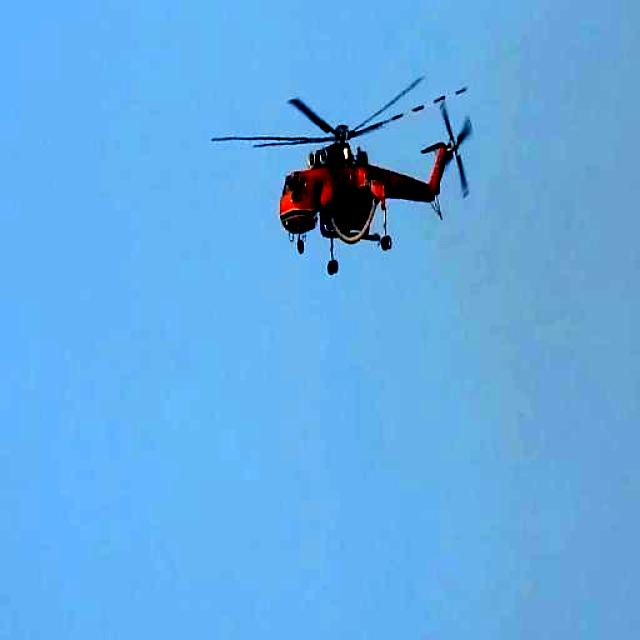drone: (224, 69, 471, 290)
